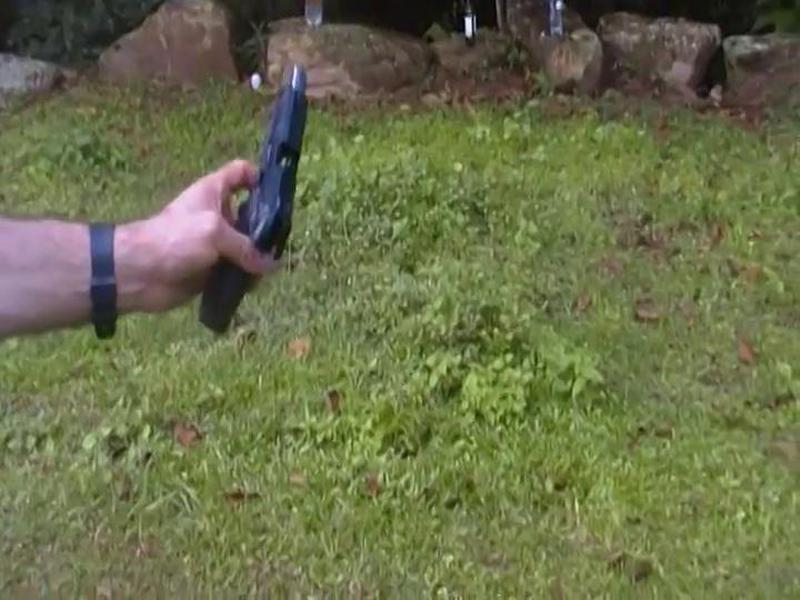Pistola: (165, 62, 365, 327)
